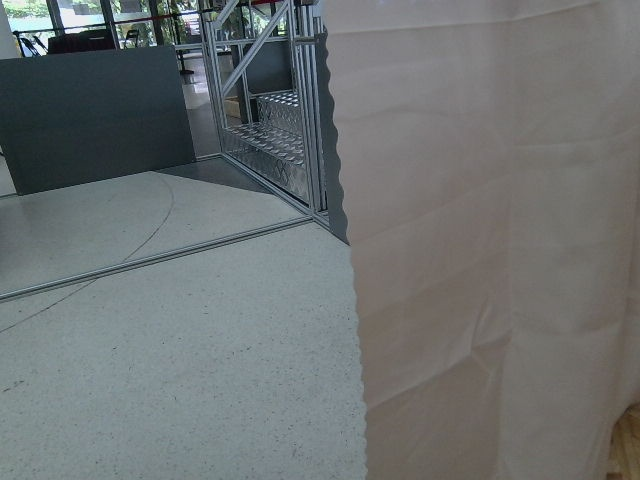curtain: (333, 0, 640, 480)
